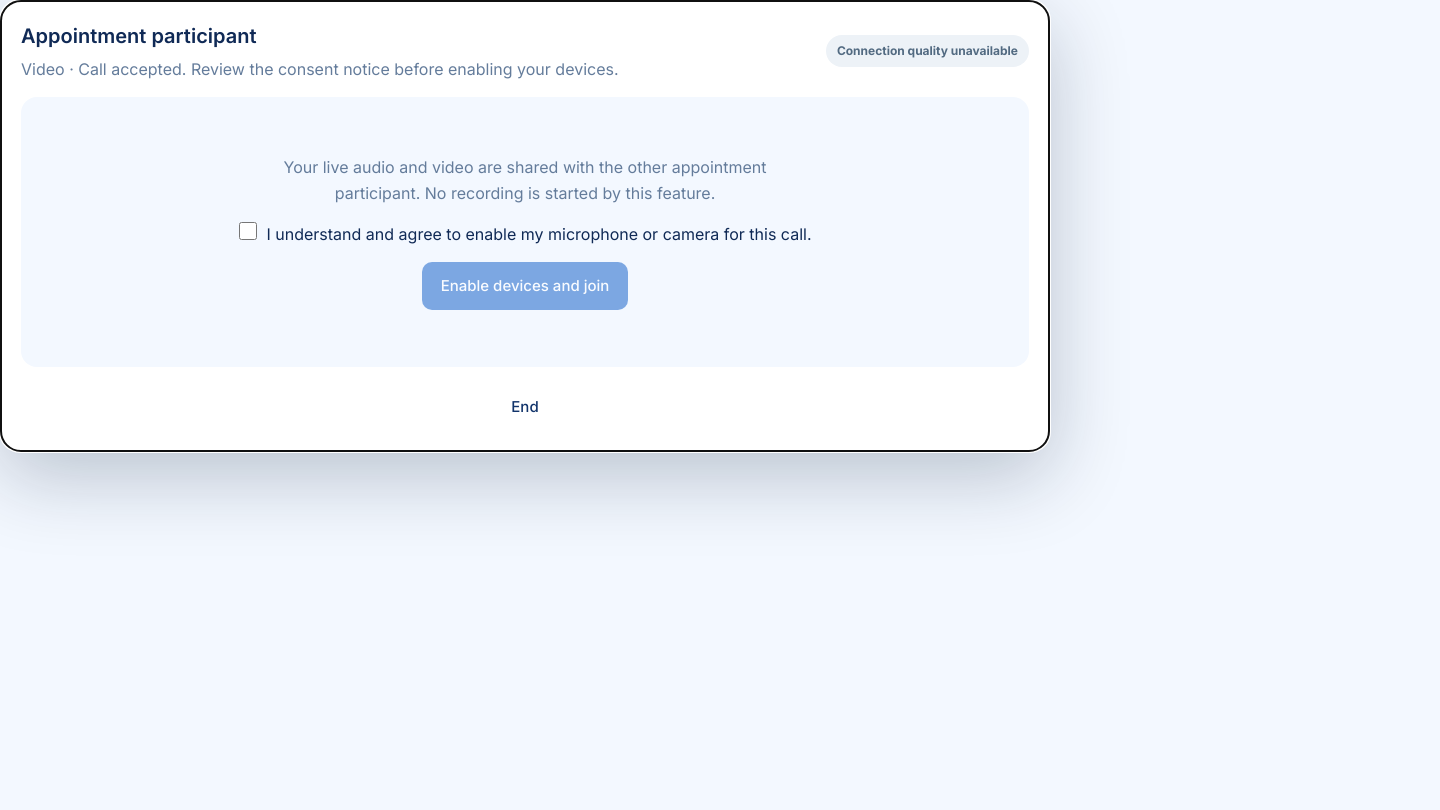
Scenario: WebRtcCallRoom › requires explicit consent and falls back to audio when camera access fails
Later steps or results of the test are not shown.
Expected: the button "Enable devices and join" is disabled, [422, 262, 628, 310]
What coordinates should you click on to do the following:
click the checkbox labelled "I understand and agree to enable my microphone or camera for this call."
I would click on:
 (248, 231)
Its box is [238, 222, 256, 240].
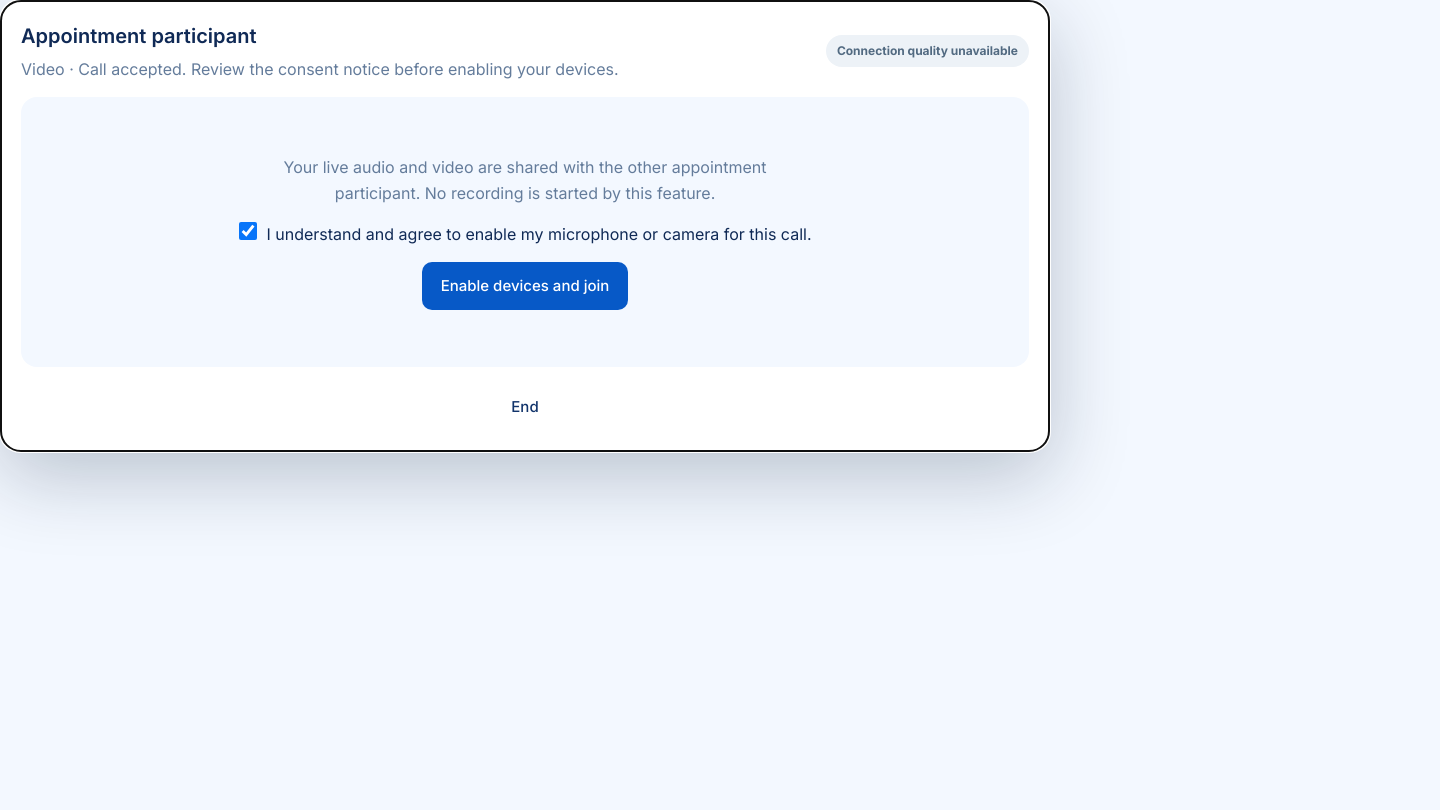
What coordinates should you click on to do the following:
click the button "Enable devices and join"
I would click on:
 (525, 286)
Its box is [422, 262, 628, 310].
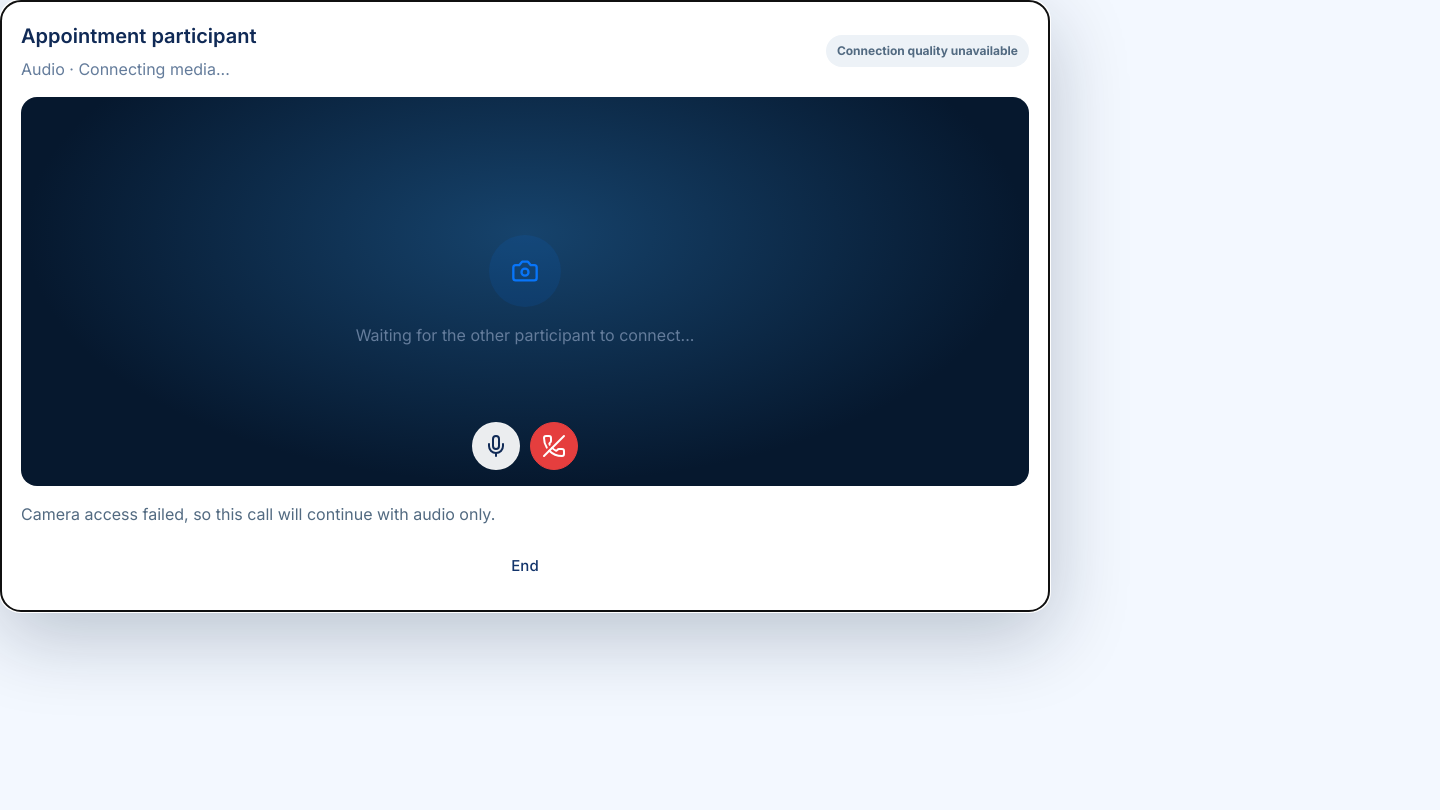
Expected: the text "Camera access failed, so this call will continue with audio only." is shown, [21, 504, 495, 524]
Expected: the button named "Turn microphone off" is shown, [472, 422, 520, 470]
